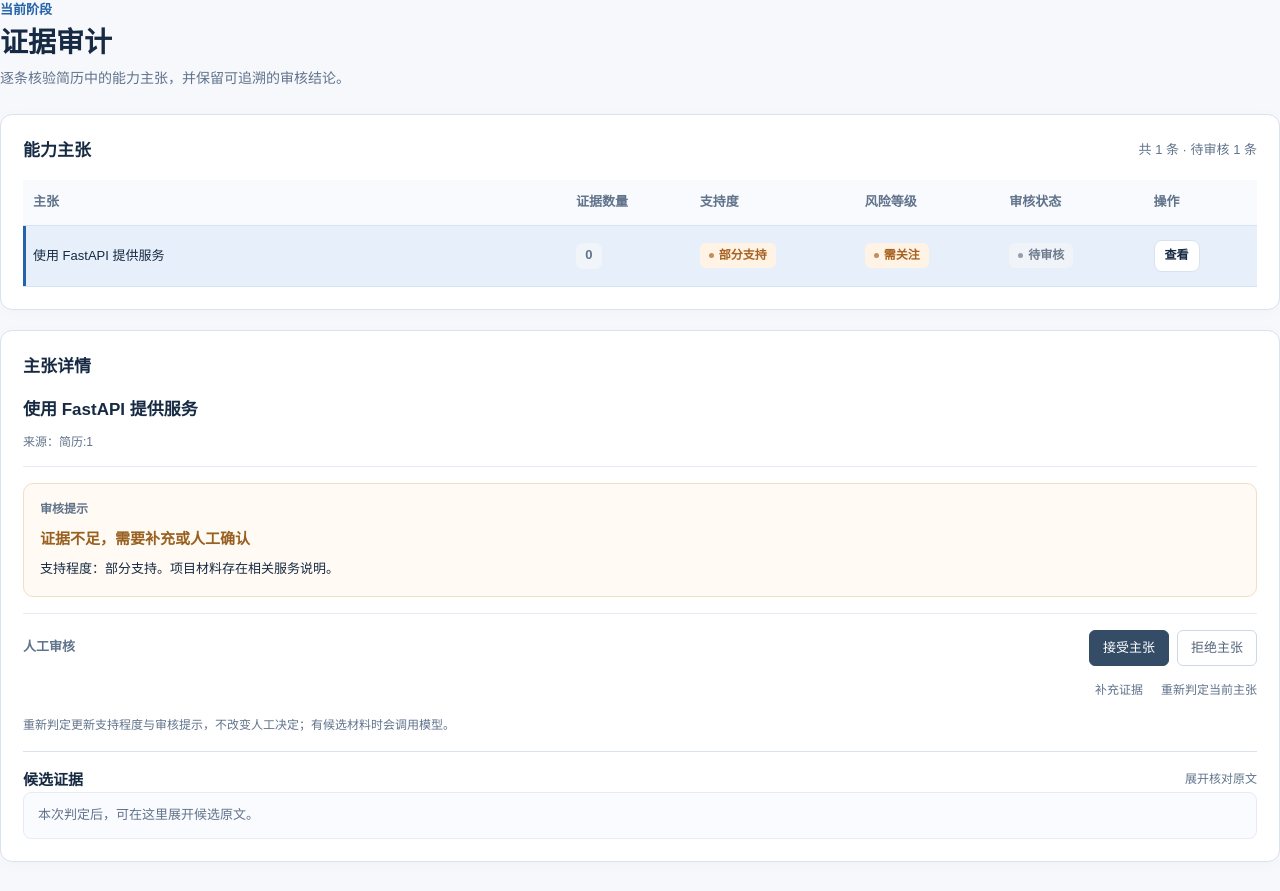
Test case: 已有判定的当前待审核主张可手动重新判定，不自动发送请求
Click the button "重新判定当前主张" at (1209, 691), box [1161,676,1257,706]
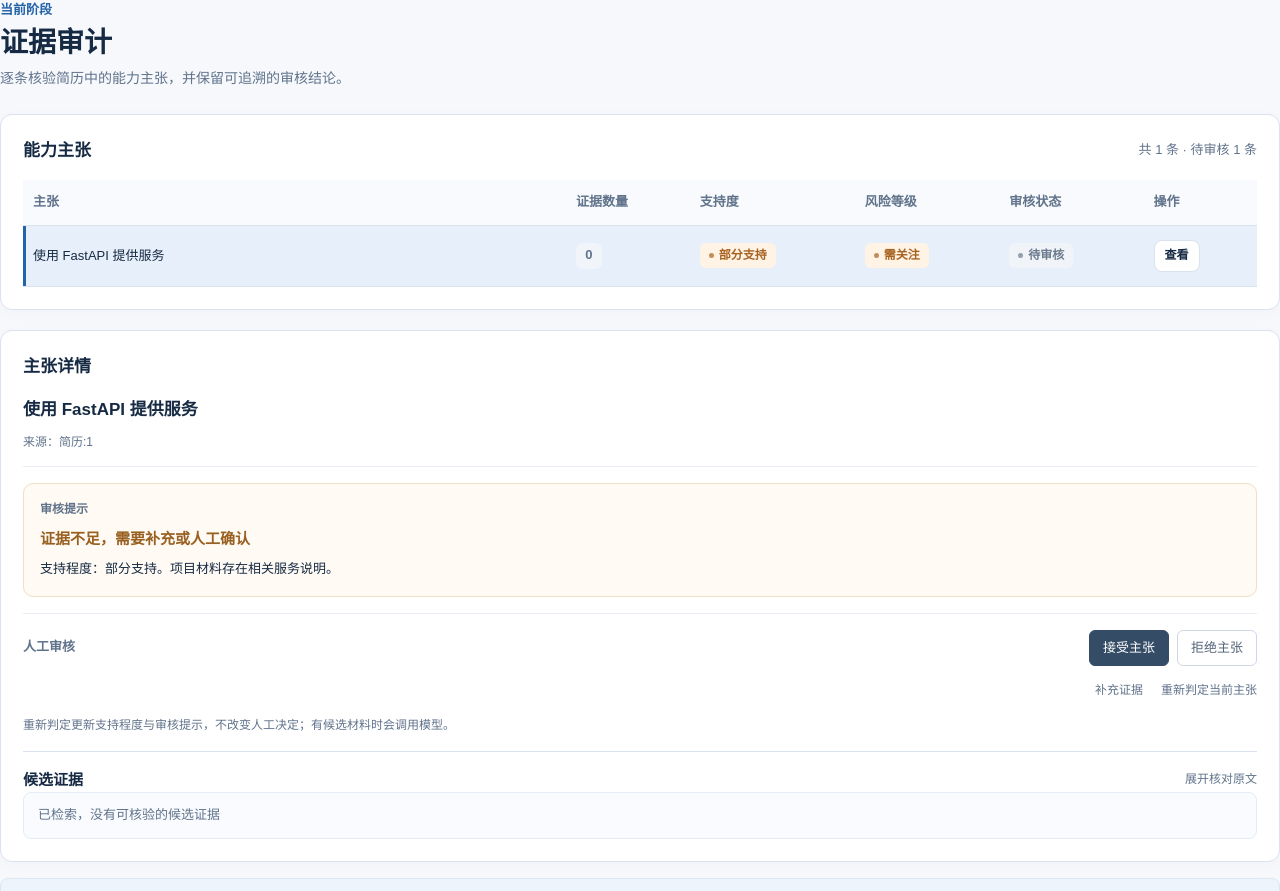
Now the list item "已检索，没有可核验的候选证据" is shown, box [23,792,1257,839]
